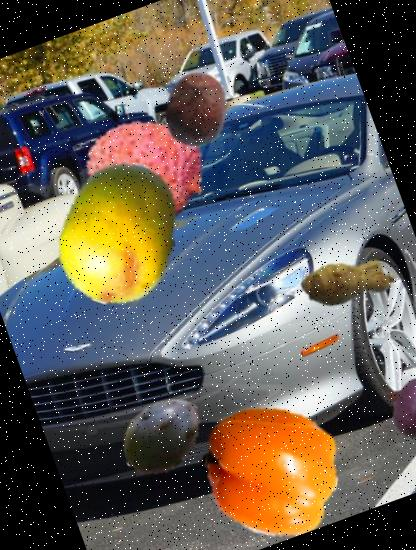Ginger: (286, 220, 409, 343)
Lychee: (68, 89, 226, 247)
Nut: (148, 60, 245, 158)
Onion: (373, 362, 416, 450)
Pepper: (181, 382, 358, 550)
Plum: (104, 378, 220, 493)
Pomelo: (26, 141, 211, 326)
